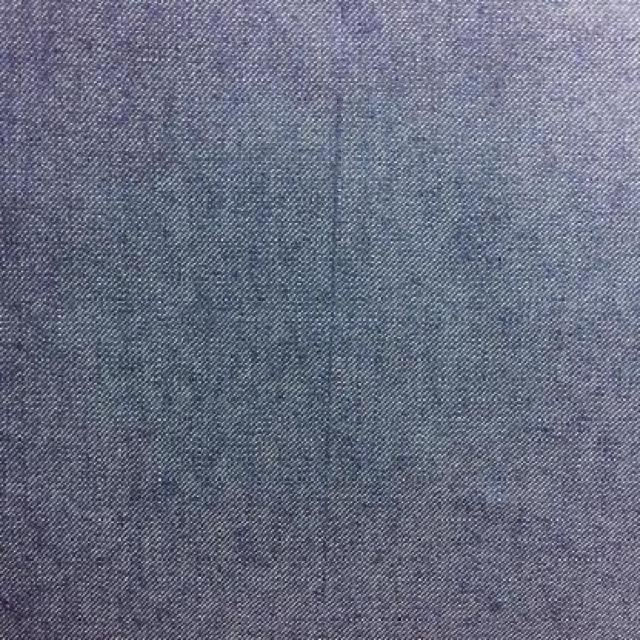pulled_or_thick_thread: (280, 92, 355, 597)
